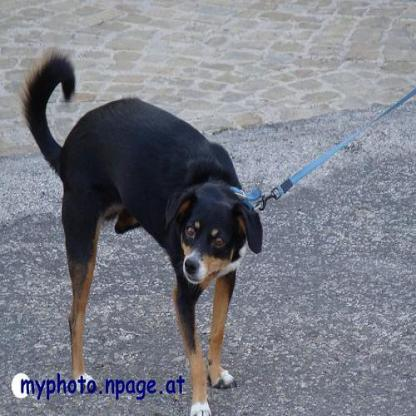Appenzeller: (19, 53, 262, 414)
